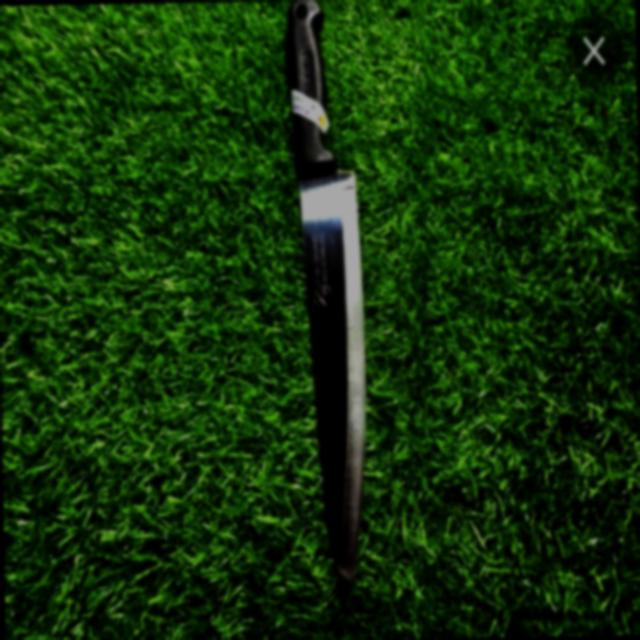knife: (249, 0, 414, 616)
